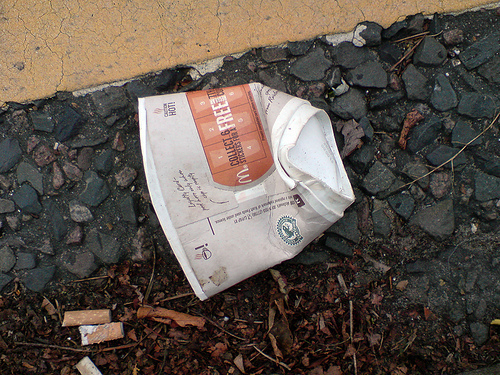litter: (137, 81, 355, 296), (79, 325, 121, 345), (62, 310, 109, 327)
